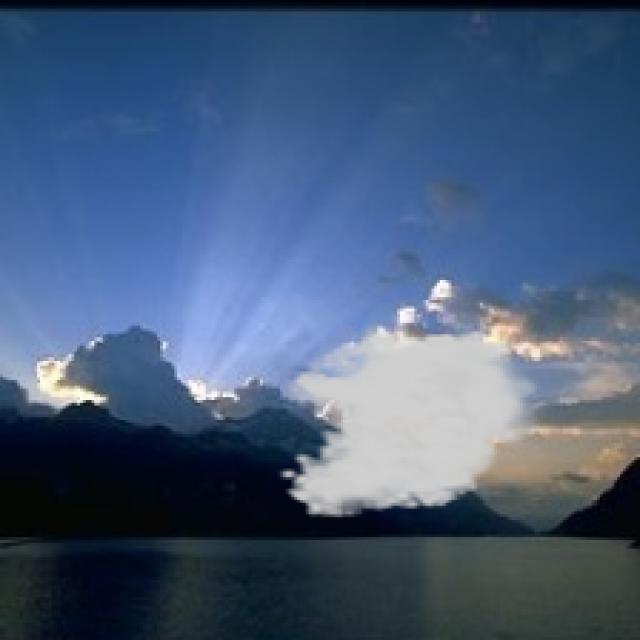Smoke: (277, 317, 552, 520)
